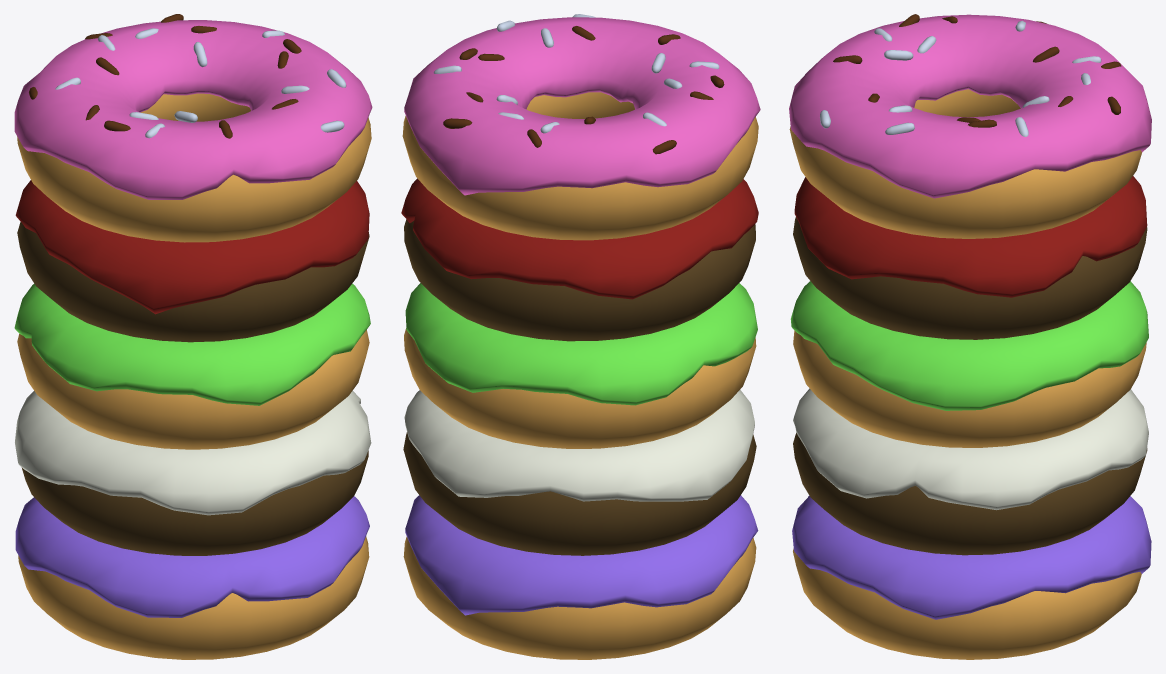
File: doughnuts.fbx
3 renders of one model, left to right at view 1: azimuth 30°, elevation 25°; view 2: azimuth 150°, elevation 25°; view 3: azimuth 270°, elevation 25°, orthographic.
Parts seen in each view (by area): view 1: Doughnuts; view 2: Doughnuts; view 3: Doughnuts.
Boxes of the visible parts, <box> form: Doughnuts: <box>14,14,372,659</box>; Doughnuts: <box>401,14,760,659</box>; Doughnuts: <box>789,14,1151,659</box>.
Size of the model in its own units: 99.58 by 162 by 99.5.
